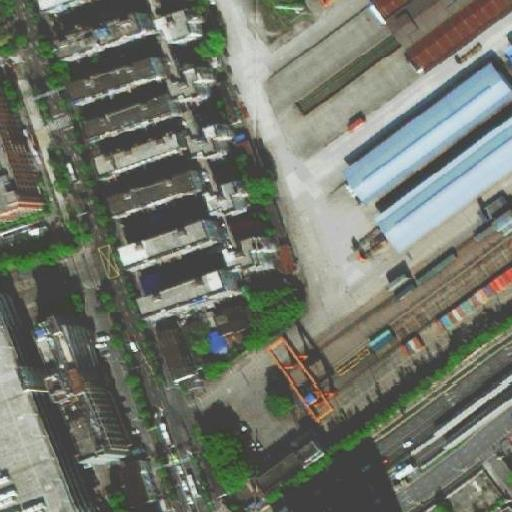building: (344, 60, 509, 201), (0, 282, 97, 512), (370, 127, 512, 261), (43, 351, 135, 461), (387, 1, 507, 74), (261, 316, 337, 414), (0, 82, 45, 208), (55, 8, 159, 59), (106, 170, 205, 220), (124, 216, 217, 268), (143, 266, 238, 316), (71, 54, 172, 101), (81, 88, 177, 137), (237, 450, 311, 512), (95, 128, 187, 177), (153, 311, 200, 381), (116, 453, 156, 508), (182, 122, 226, 171), (204, 300, 251, 342), (167, 62, 213, 104), (234, 134, 272, 184), (161, 8, 210, 46), (233, 239, 280, 276), (196, 454, 228, 505), (210, 178, 244, 212), (257, 200, 283, 242), (414, 495, 454, 512), (298, 443, 321, 465)
